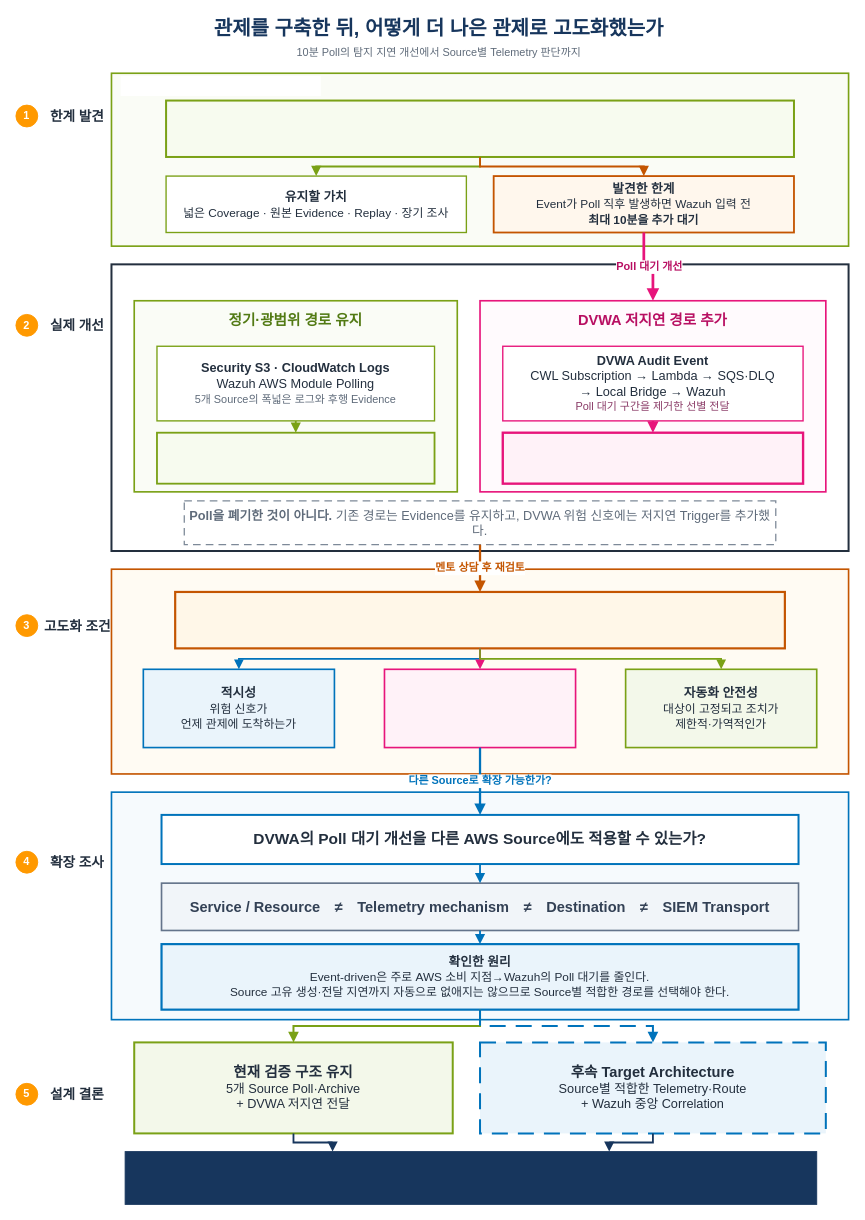
This 865x1220 diagram has some shape labels left out. Here are the shapes that lost their labels. From the top down, the centre of each, then its label:
(x=220, y=86): 초기 As-built · 정기·광범위 수집
(x=480, y=128): 5개 Source → Wazuh 10분 Poll CloudFront · ALB · WAF · DVWA · CloudTrail
(x=284, y=277): 검증된 As-built · 기존 Evidence를 버리지 않은 지연 개선
(x=295, y=457): 역할 · 침해 확인 · 영향 범위 분석 Evidence 보존 · 누락 보완
(x=652, y=457): Event→Alert 실측 · N=3 · 누락 0 3.427~6.439초
(x=480, y=619): 멘토 상담 후, 개선의 평가 조건을 넓혔다 속도를 포기한 것이 아니라 정확성과 자동화 안전성도 함께 요구
(x=479, y=708): 정확성 Rule 조건과 Correlation이 오탐을 얼마나 통제하는가
(x=470, y=1177): 관제를 구축하는 데서 멈추지 않고, 탐지 지연을 줄이면서 정확성과 안전성을 지키는 더 나은 수집·탐지 경로를 찾았다.
